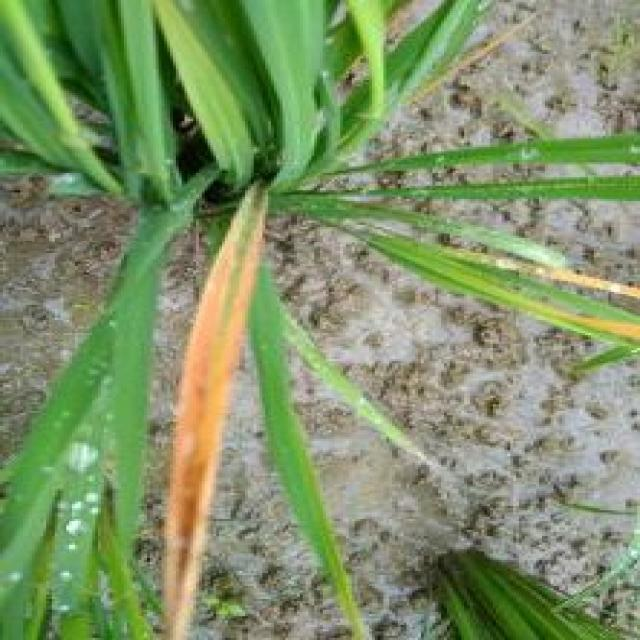Rice Tungro: (154, 241, 238, 634), (524, 254, 635, 295), (574, 309, 640, 342)
